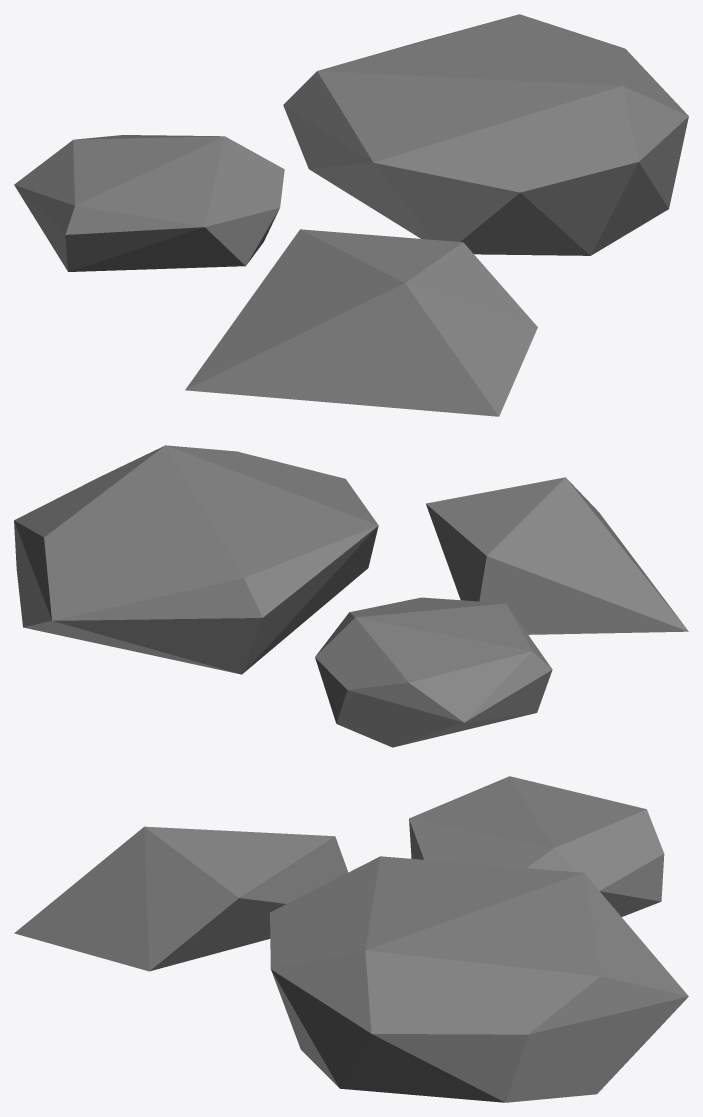
Rendered from Stone 6.fbx.
3 views of the same model, one above another, from view 1: azimuth 30°, elevation 25°; view 2: azimuth 150°, elevation 25°; view 3: azimuth 270°, elevation 25° (orthographic). The views are drawn at different scales.
Parts seen in each view (by area): view 1: Stone 6; view 2: Stone 6; view 3: Stone 6.
Part boxes in pixels (left/top/right/bottom): Stone 6: left=14, top=14, right=688, bottom=416; Stone 6: left=14, top=445, right=688, bottom=747; Stone 6: left=14, top=776, right=688, bottom=1102.
Size of the model in its own units: 7.64 by 1.6 by 7.47.
